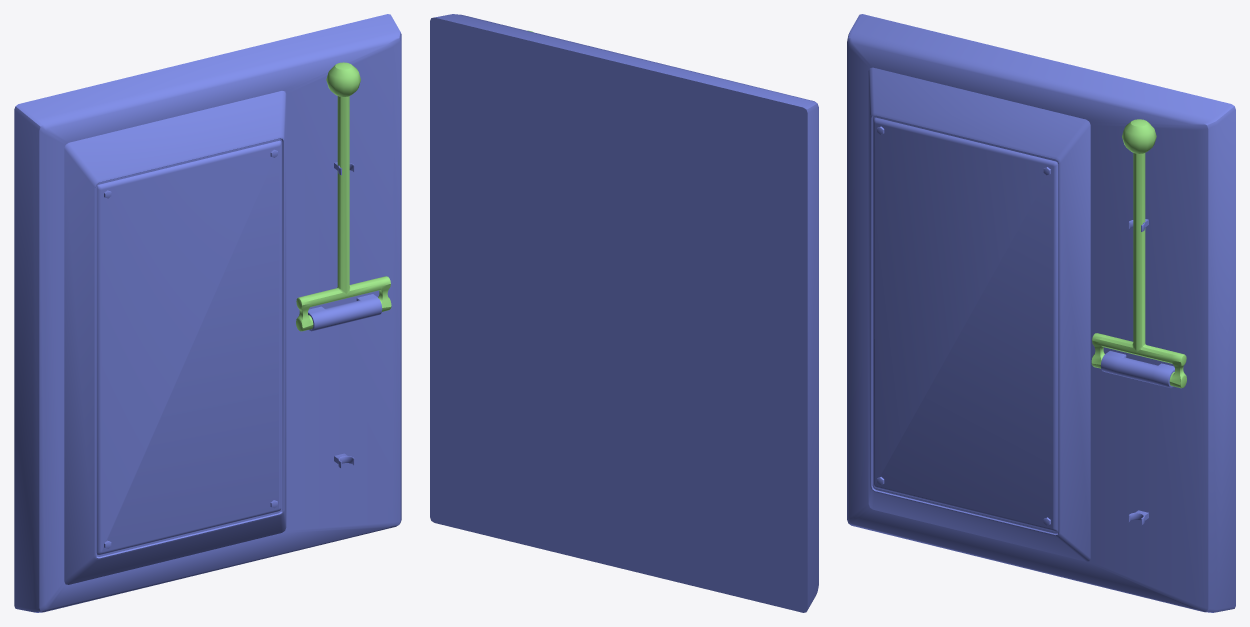
Rendered from FuseBox.fbx.
3 views of the same model, side by side, from view 1: azimuth 30°, elevation 25°; view 2: azimuth 150°, elevation 25°; view 3: azimuth 330°, elevation 25° (orthographic).
Parts seen in each view (by area): view 1: FuseBox, FuseBoxLever; view 2: FuseBox; view 3: FuseBox, FuseBoxLever.
Boxes of the visible parts, x1,y1,x2,y2 form: FuseBox: (14,14,401,612); FuseBoxLever: (296,62,391,331); FuseBox: (430,14,818,612); FuseBox: (847,14,1235,612); FuseBoxLever: (1091,119,1186,388).
Size of the model in its own units: 50 by 63.92 by 8.29.
